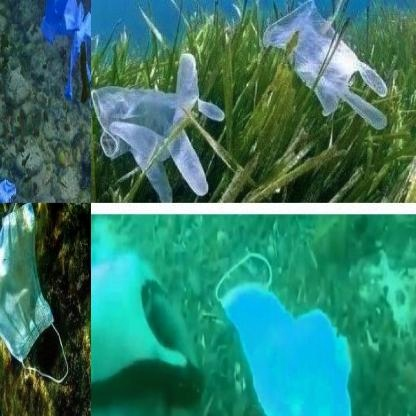Mask: (216, 251, 359, 415), (0, 203, 70, 385)
glove: (92, 48, 223, 202), (261, 0, 392, 128)
